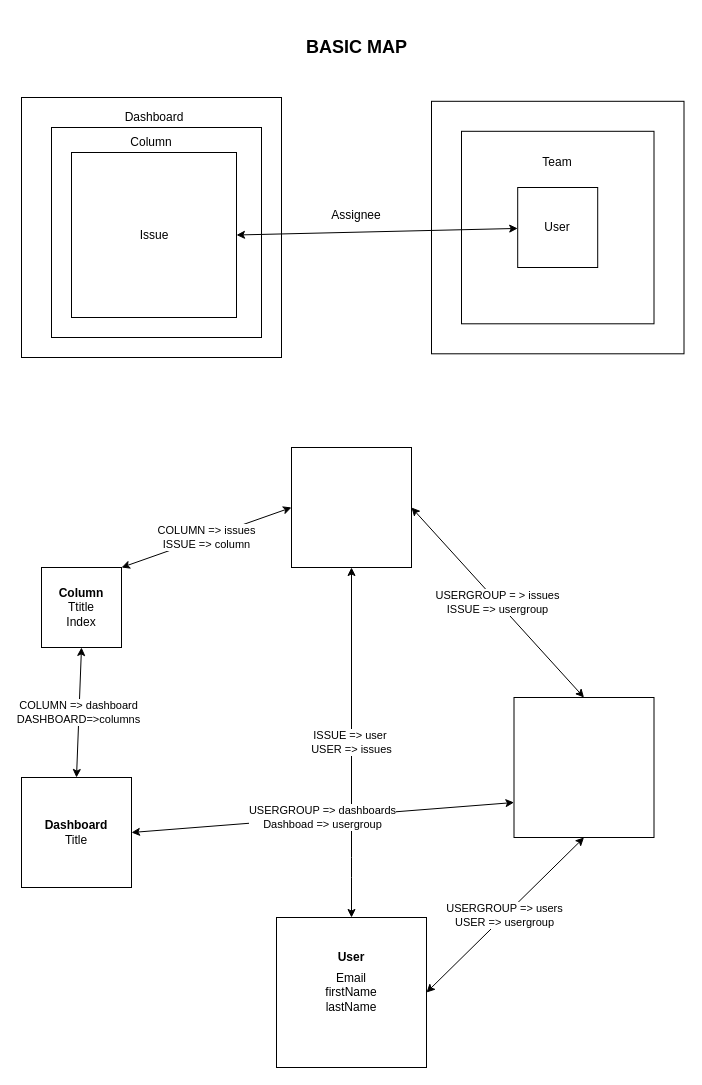
The diagram is 702 pixels wide and 1085 high, and some of its shapes have lost their labels. The centre of each missing label's shape, as x and y in pixels:
Issue title description labels: (351,507)
Usergroup(Team) Title: (583,767)
